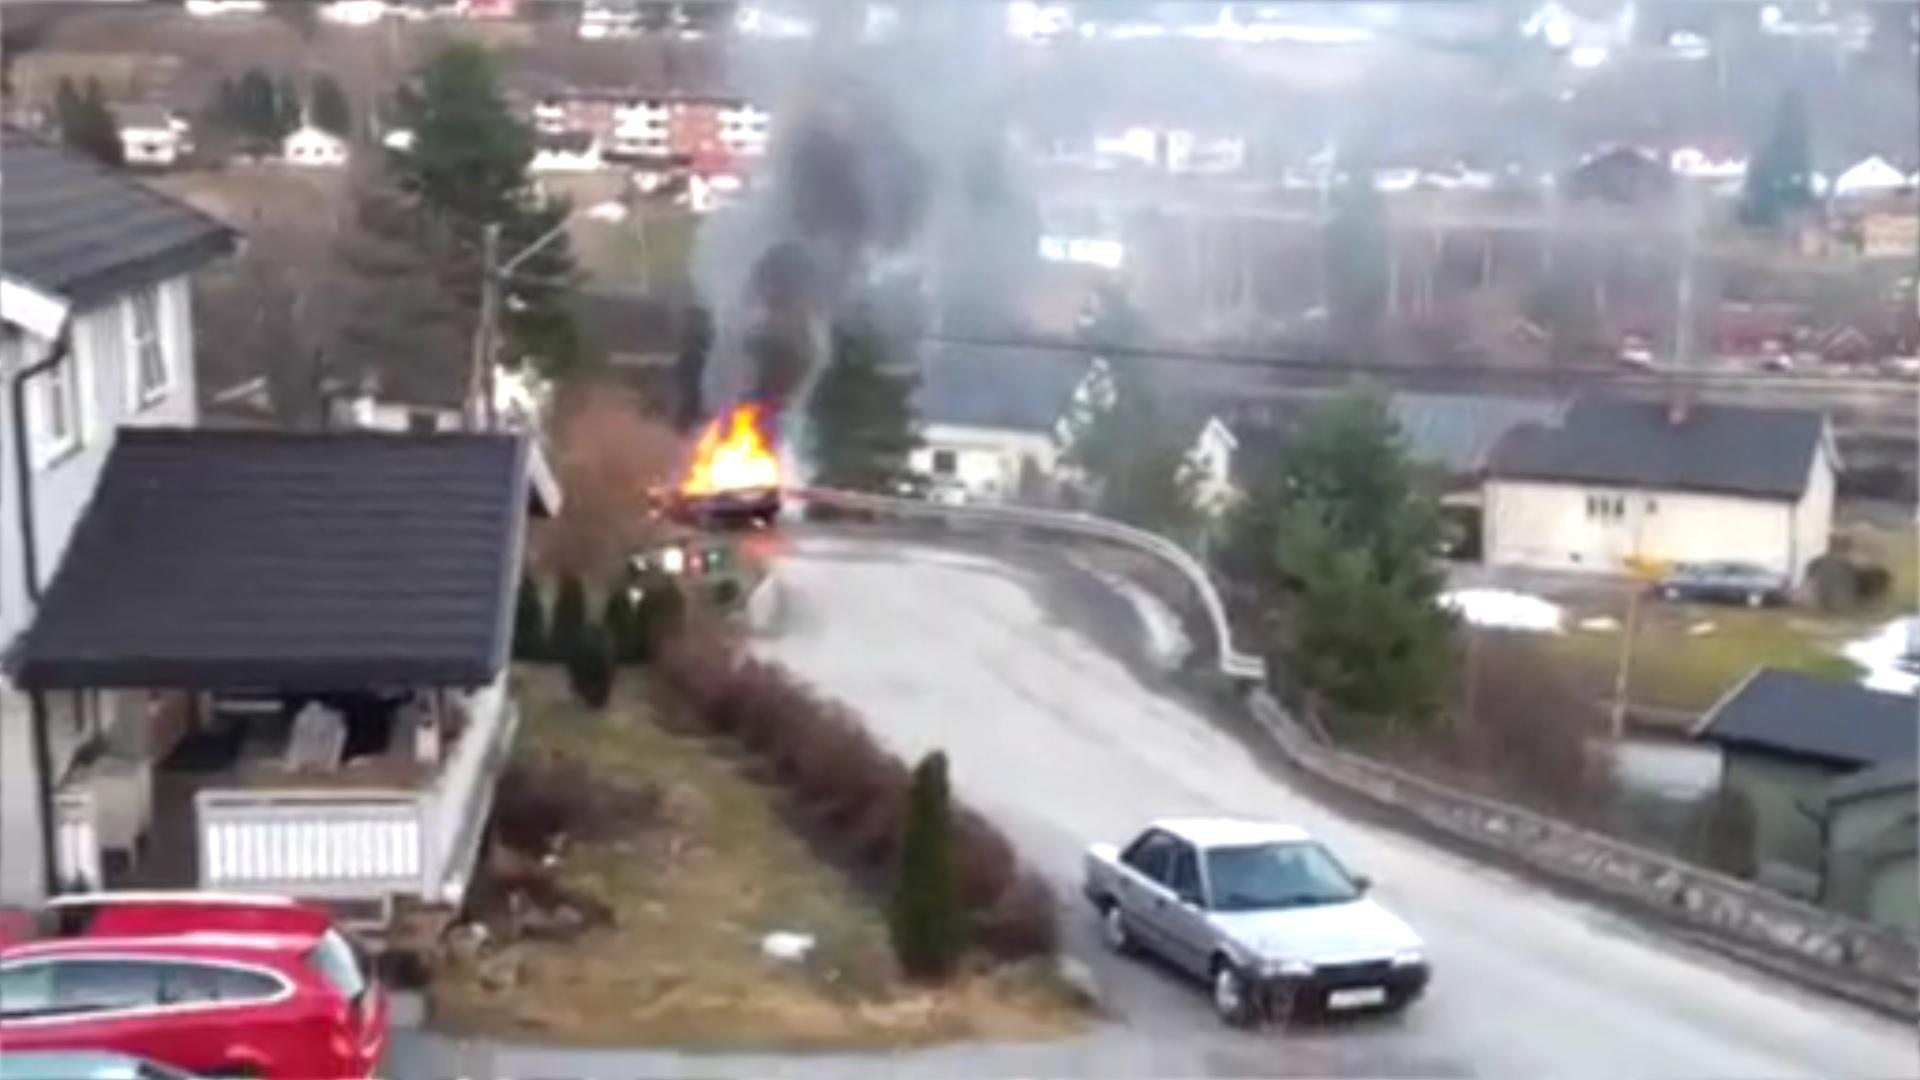fire: (683, 407, 783, 495)
